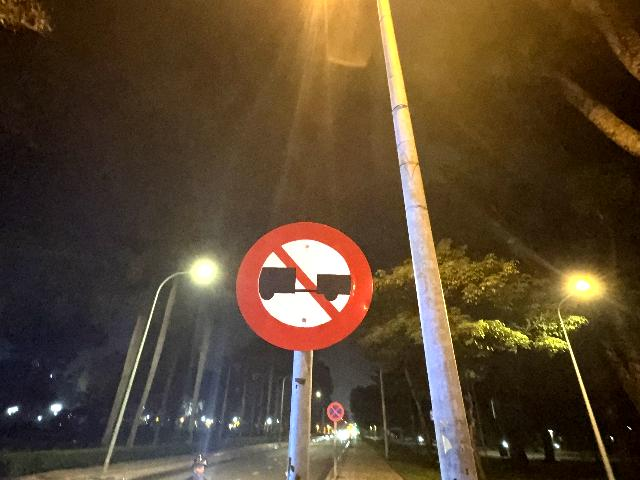cam-xe-somi-romooc: (235, 221, 374, 351)
